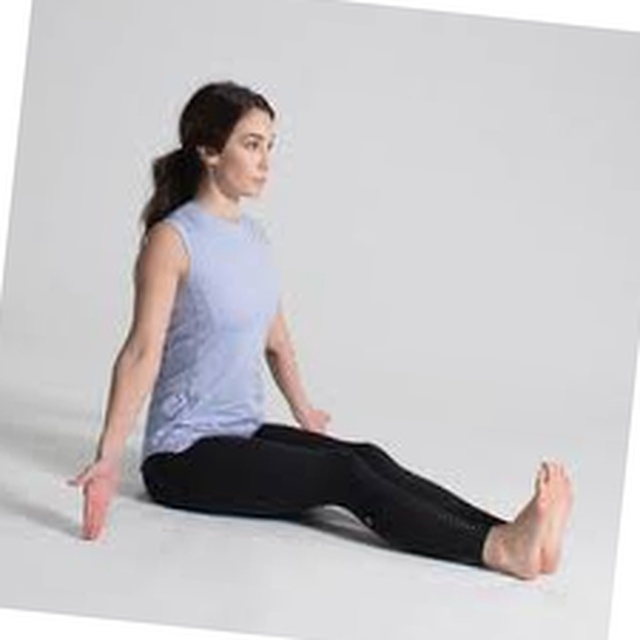Staff_Pose: (67, 79, 574, 581)
